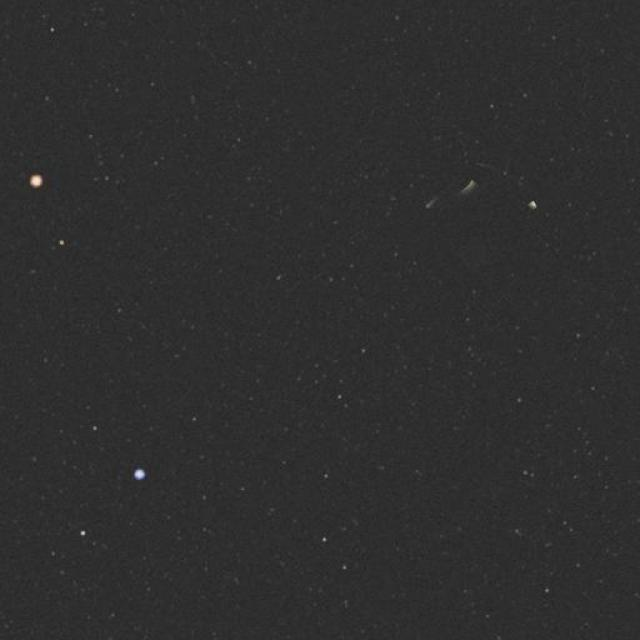proba_3_ocs: (393, 140, 597, 296)
